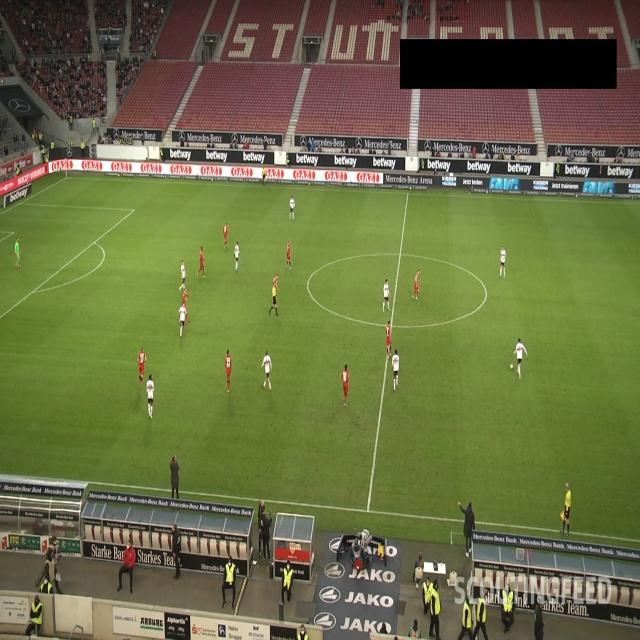ball: (509, 363, 514, 370)
